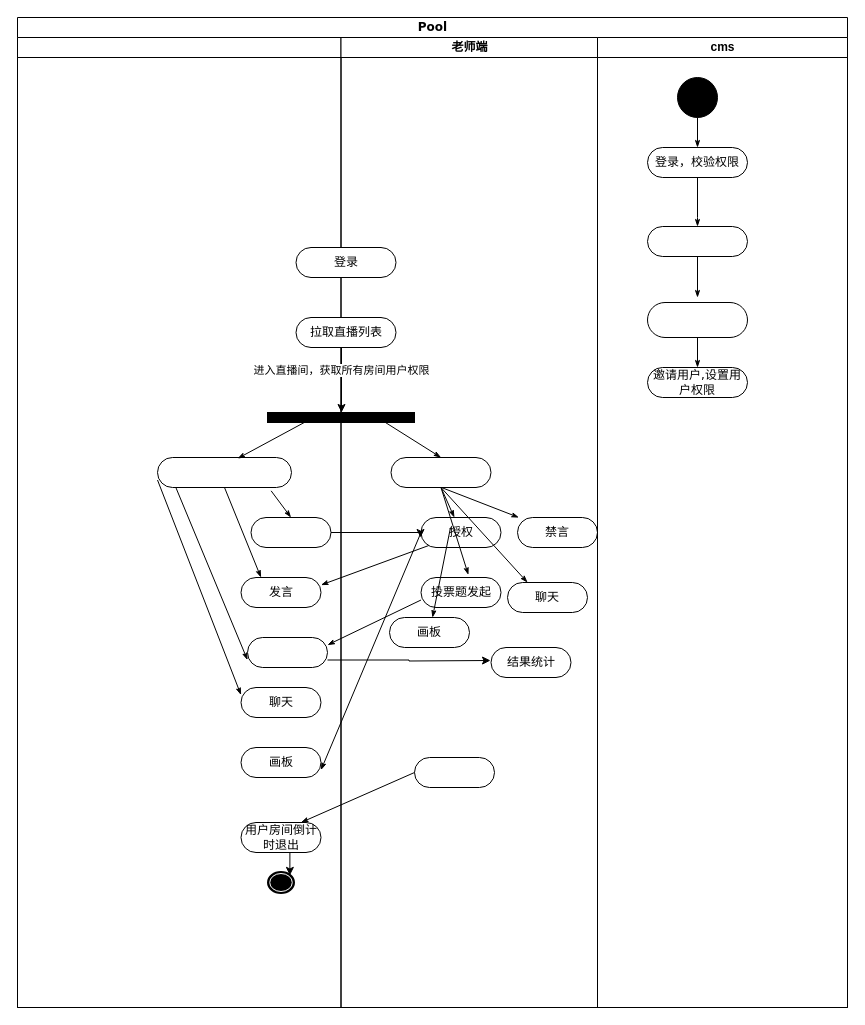
This 865x1025 diagram has some shape labels left out. The box of each missing label's shape, as (x1, y1, x2, y2) in pixels:
举手: (250, 516, 331, 548)
创建房间: (646, 226, 748, 256)
学生端: (16, 36, 341, 1008)
投票: (246, 636, 328, 668)
根据房间直播状态判断是否开始拉流: (156, 456, 292, 488)
点击按钮,开始直播: (390, 456, 491, 488)
点击结束直播: (414, 756, 494, 788)
设置房间属性: (646, 302, 748, 338)
